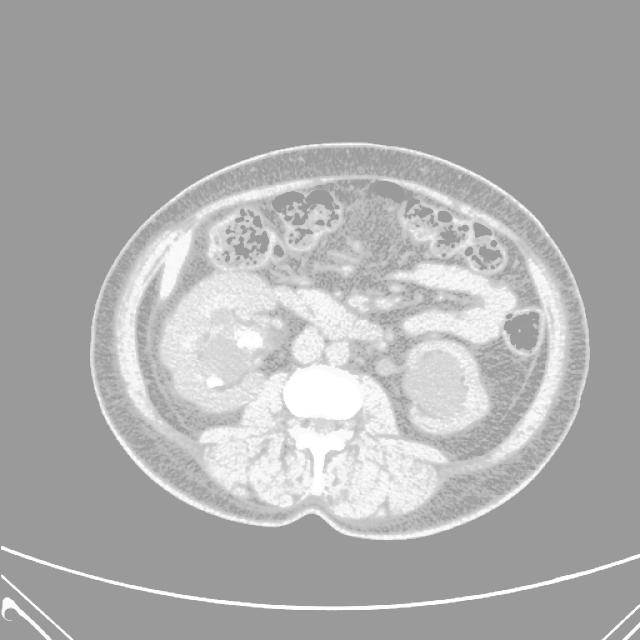STONE: (221, 186, 534, 361)
